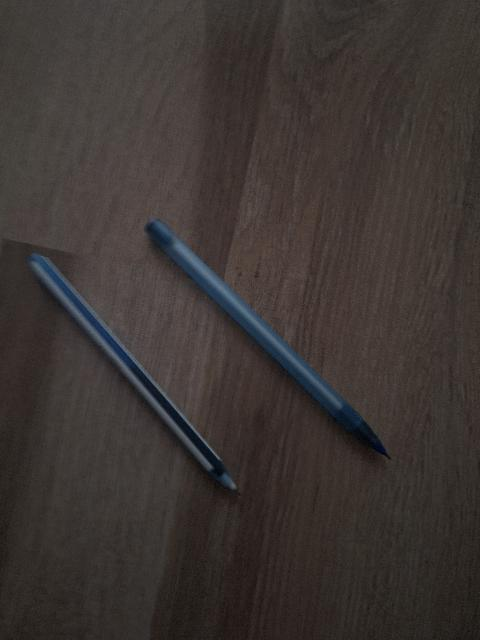writing_tool: (143, 215, 397, 465), (27, 256, 246, 502)
